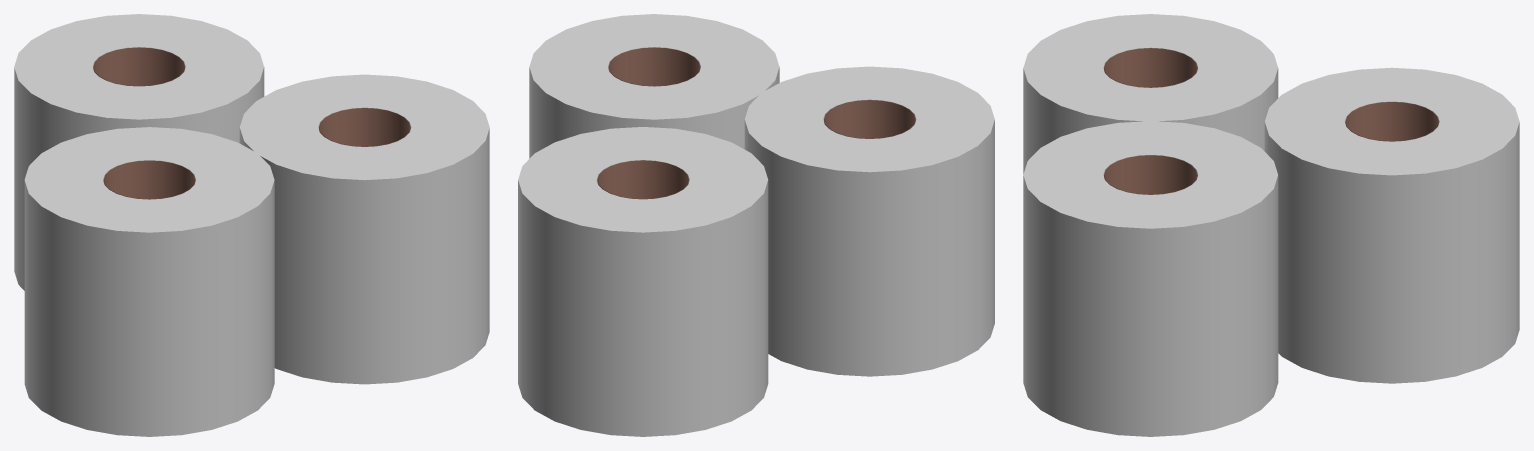
The model's file is Napkin.fbx.
3 views of the same model, side by side, from view 1: azimuth 30°, elevation 25°; view 2: azimuth 150°, elevation 25°; view 3: azimuth 270°, elevation 25° (orthographic).
Parts seen in each view (by area): view 1: tissue 3, tissue 1, tissue 2; view 2: tissue 2, tissue 3, tissue 1; view 3: tissue 1, tissue 2, tissue 3.
Part boxes in pixels (bbox=[...]): tissue 3: bbox=[24, 127, 274, 436]; tissue 1: bbox=[239, 74, 489, 384]; tissue 2: bbox=[14, 14, 264, 290]; tissue 2: bbox=[518, 127, 768, 436]; tissue 3: bbox=[744, 66, 994, 376]; tissue 1: bbox=[529, 14, 779, 158]; tissue 1: bbox=[1023, 121, 1278, 436]; tissue 2: bbox=[1264, 67, 1519, 383]; tissue 3: bbox=[1023, 14, 1278, 174].
Size of the model in its own units: 34.78 by 15.73 by 33.97.
